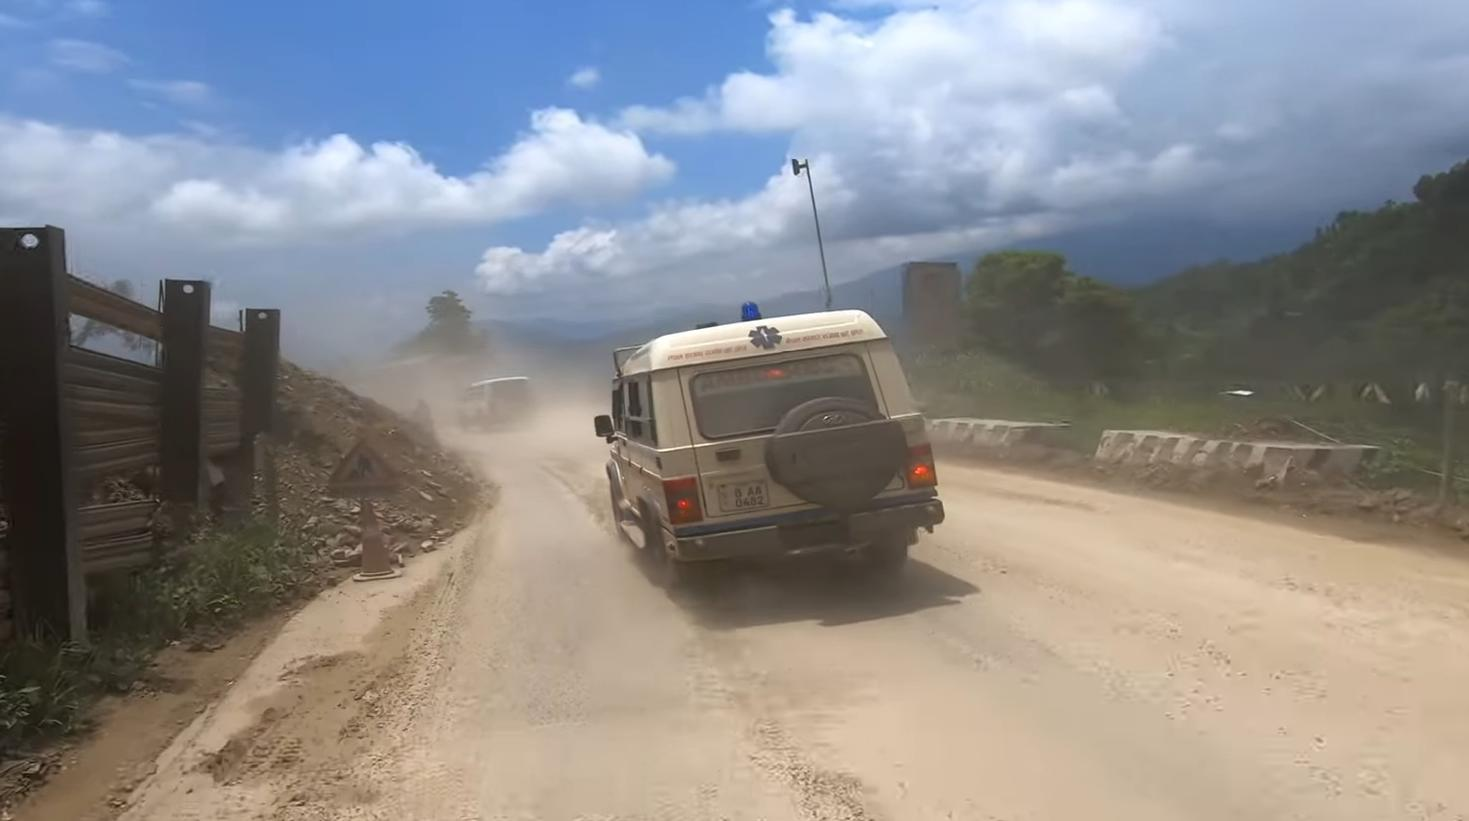ambulance: (581, 292, 952, 607)
